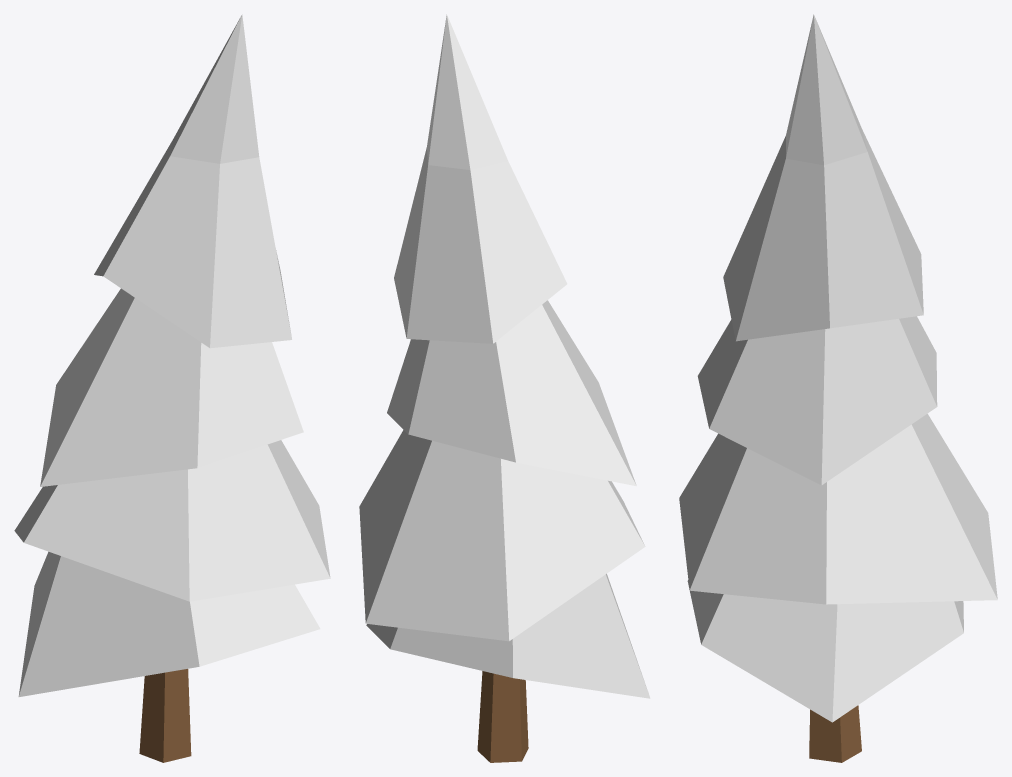
Rendered from Pine_Tree_m_Snow_10.fbx.
3 views of the same model, side by side, from view 1: azimuth 30°, elevation 25°; view 2: azimuth 150°, elevation 25°; view 3: azimuth 270°, elevation 25° (orthographic). The views are drawn at different scales.
Visible parts, largest first — view 1: Pine_Tree_m_Snow_10; view 2: Pine_Tree_m_Snow_10; view 3: Pine_Tree_m_Snow_10.
Part boxes in pixels (bbox=[...]): Pine_Tree_m_Snow_10: bbox=[14, 14, 330, 762]; Pine_Tree_m_Snow_10: bbox=[359, 14, 650, 762]; Pine_Tree_m_Snow_10: bbox=[679, 14, 997, 762].
Size of the model in its own units: 257 by 600 by 225.
